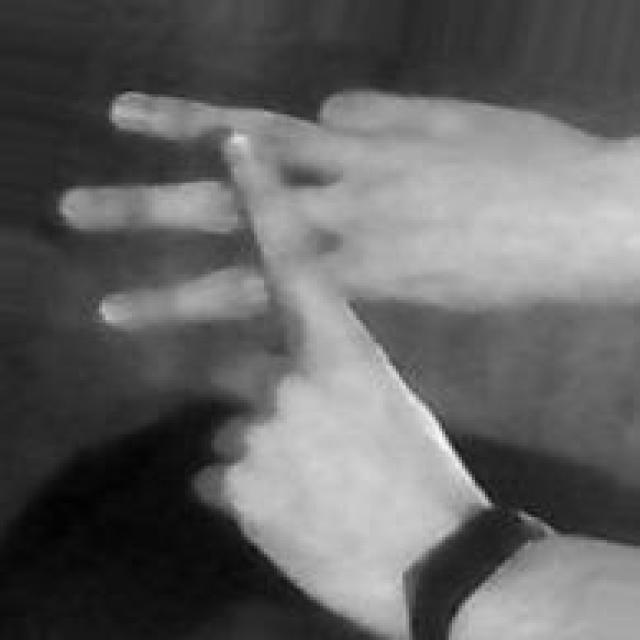E: (56, 81, 564, 527)
